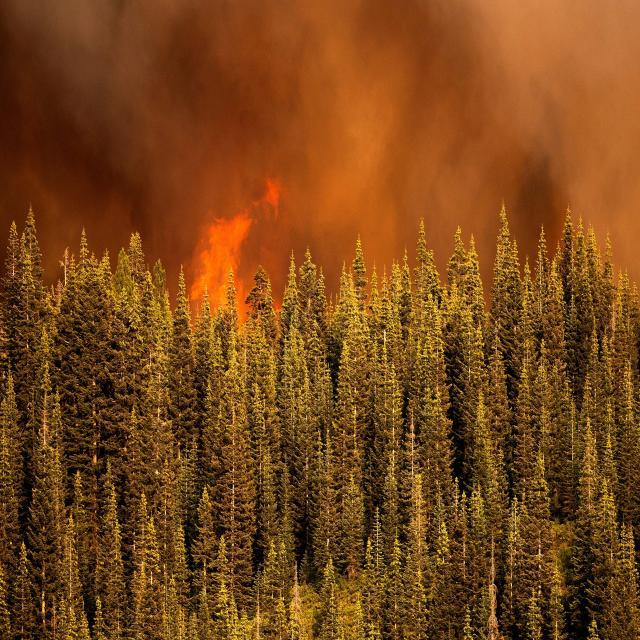Fire: (128, 167, 315, 348)
Smoke: (0, 0, 640, 140)
